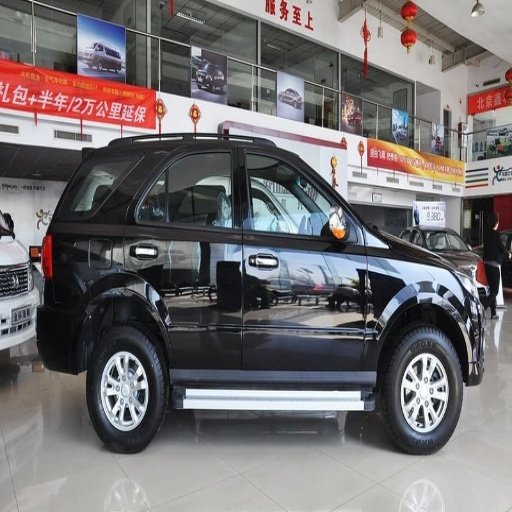back_right_door: (126, 143, 244, 383)
front_right_door: (242, 141, 366, 385)
